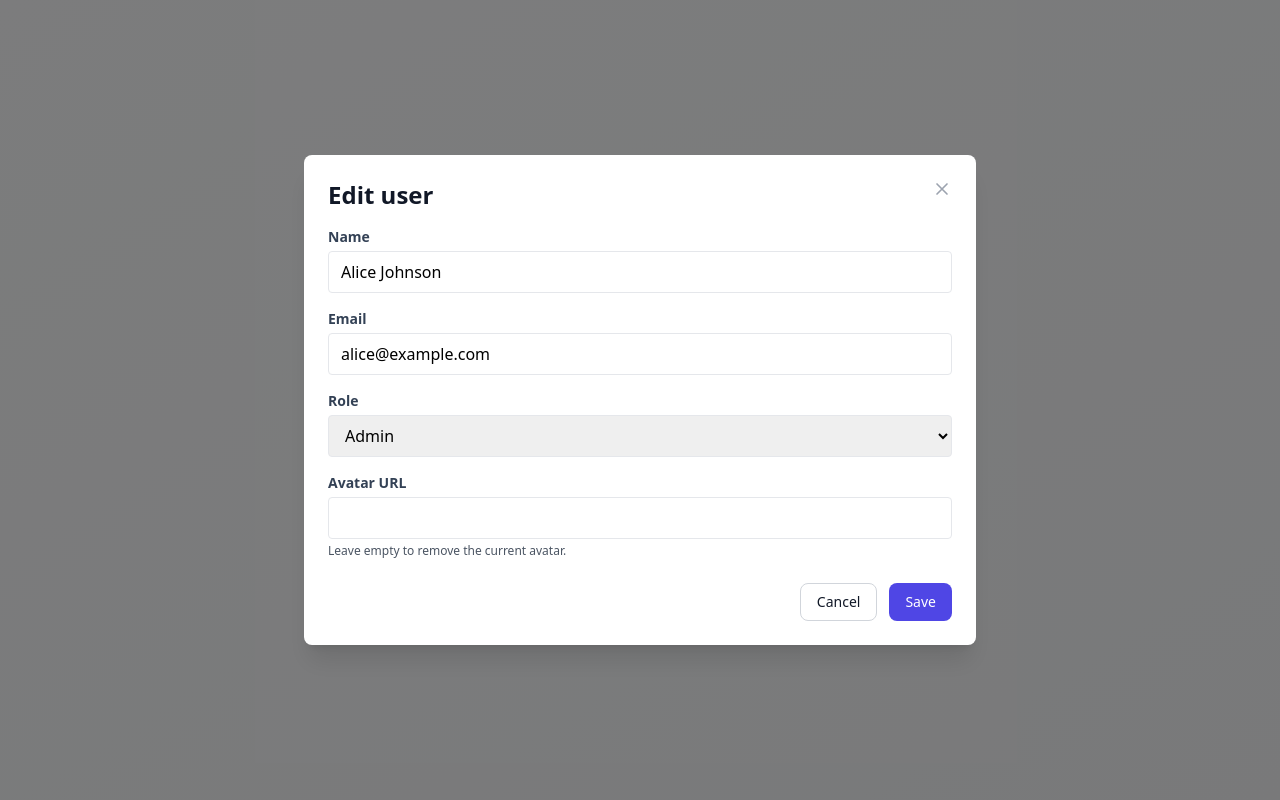
EditUserDialog › keeps the entered values after a network error
Replace the text in the field labelled "Name" with "Alice Cooper" at (640, 272), box [328, 251, 952, 293]
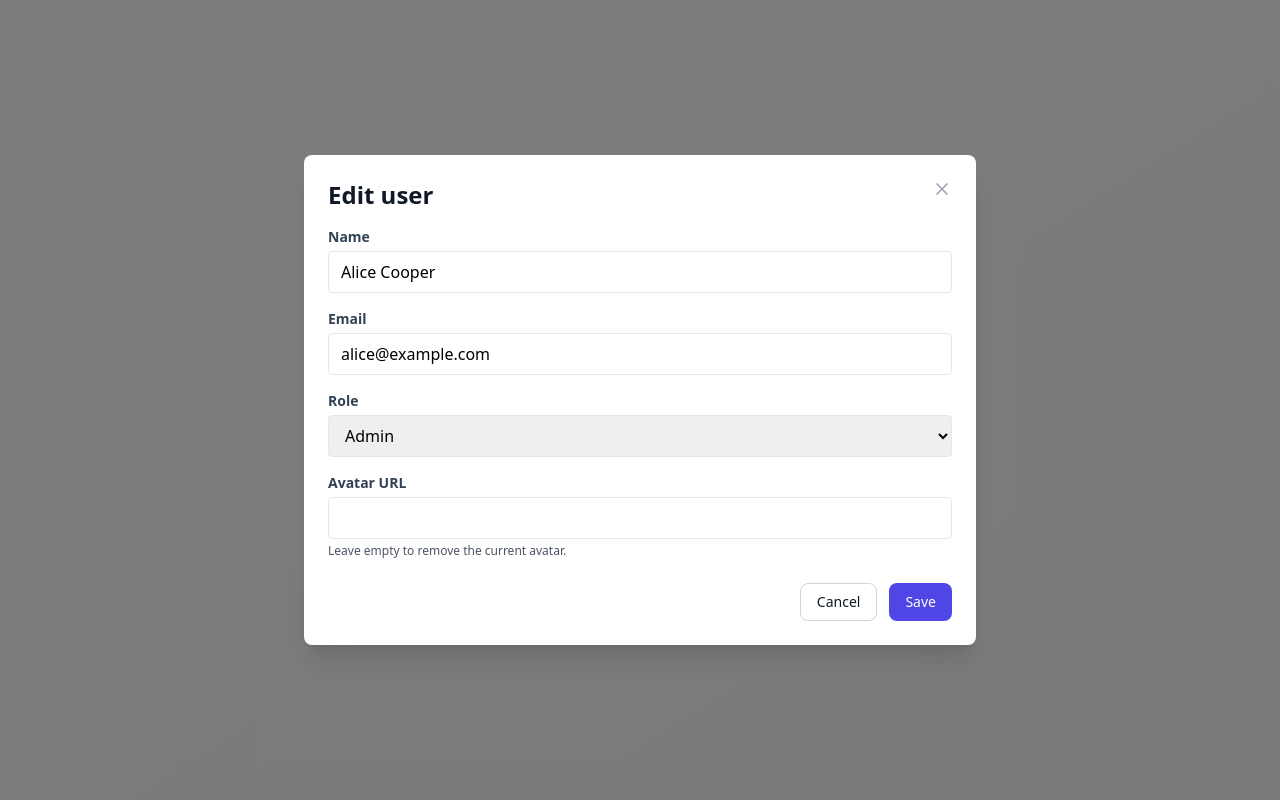
Click the button "Save".
click(921, 602)  # box [889, 583, 952, 621]
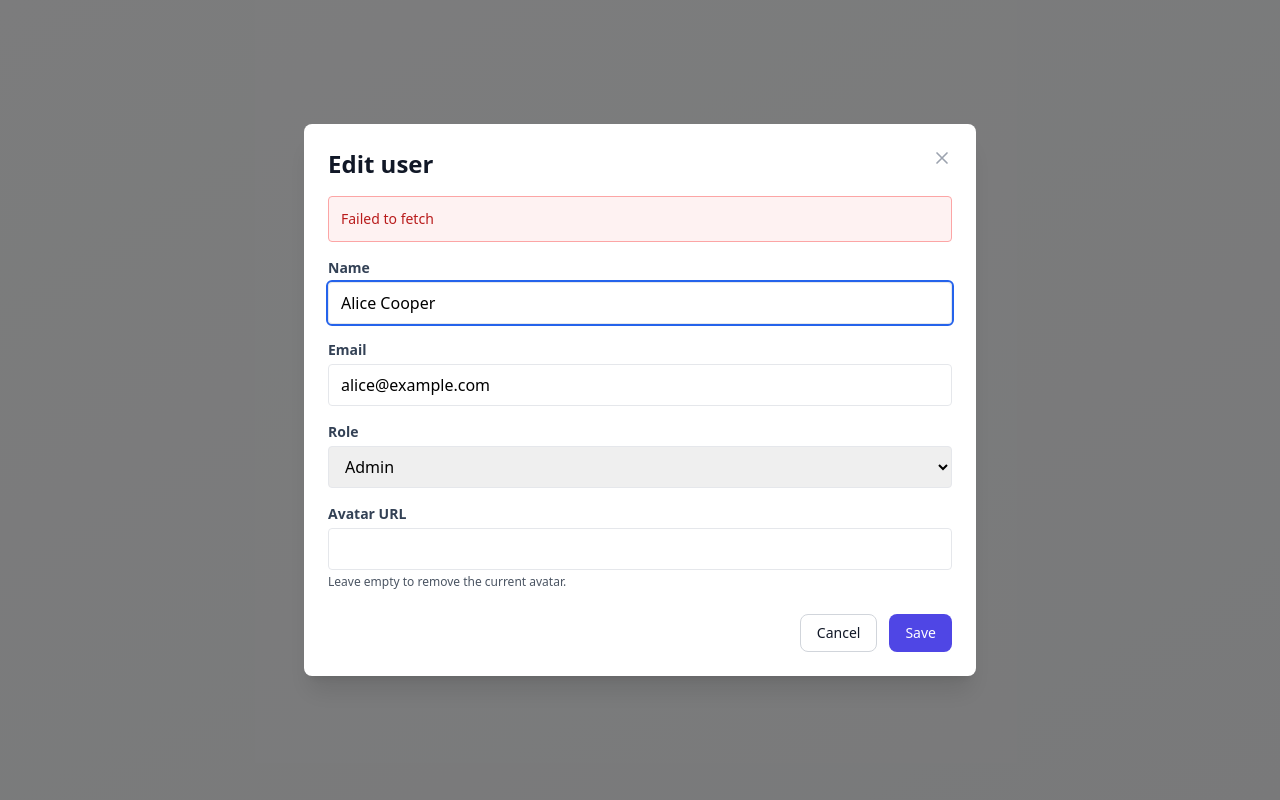
Result: the text "Failed to fetch" is shown at [328, 196, 952, 242]
